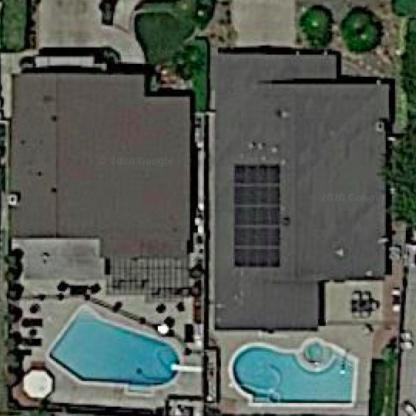solar_panel: (218, 155, 287, 276)
swimming_pool: (39, 289, 188, 397), (222, 325, 365, 411)
